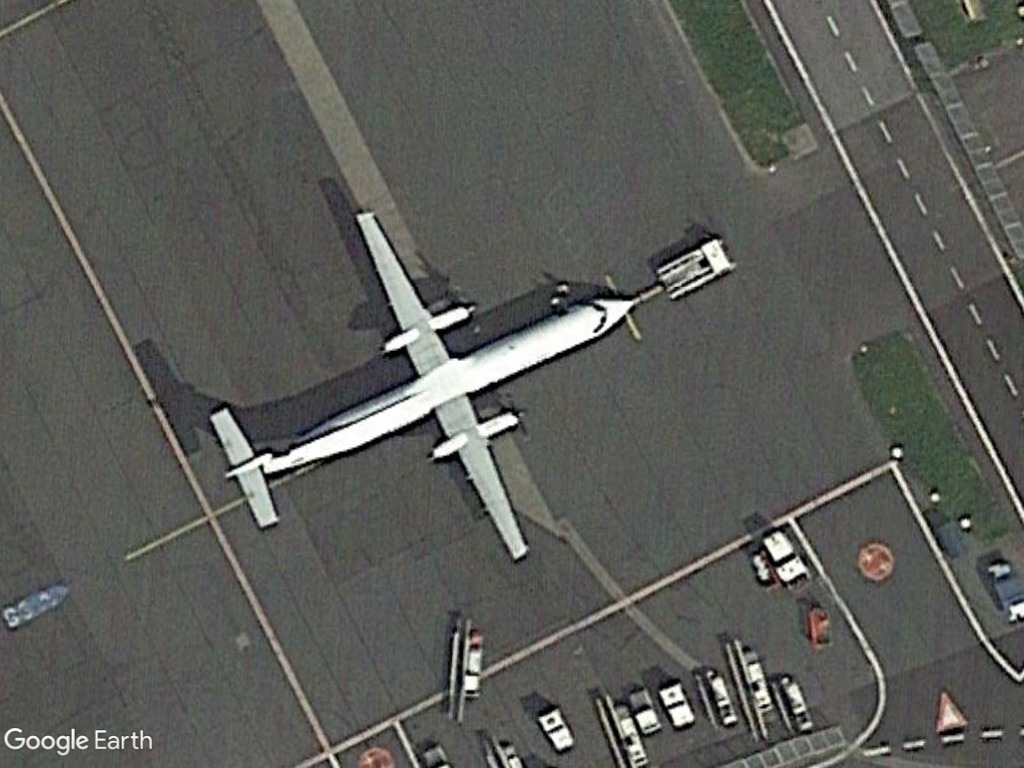propeller: (200, 192, 642, 577)
pushbacktruck: (651, 236, 740, 302)
